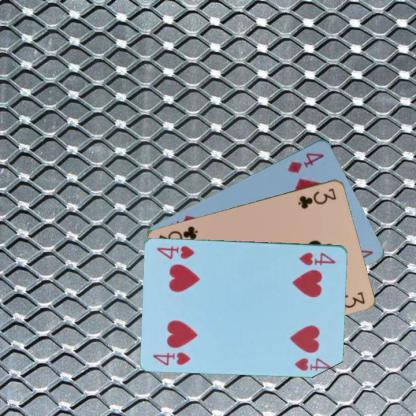3c: (296, 185, 338, 210)
4d: (285, 150, 326, 175)
4h: (296, 249, 337, 266), (151, 349, 192, 366)
